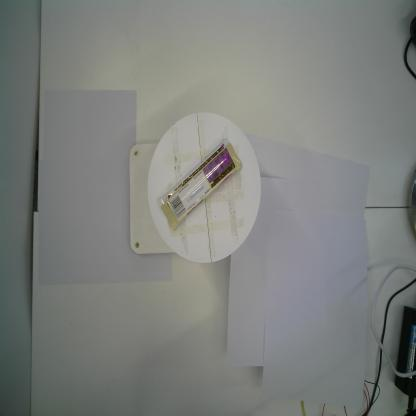Chocolate: (158, 138, 243, 230)
